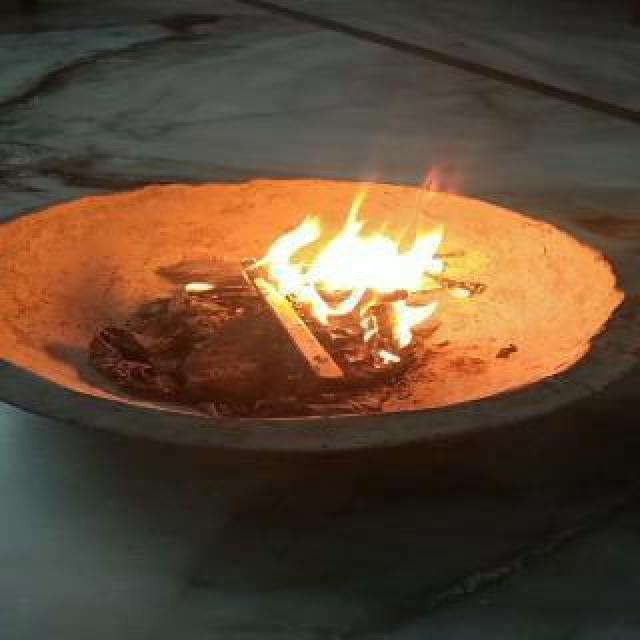Fire: (208, 150, 476, 360)
